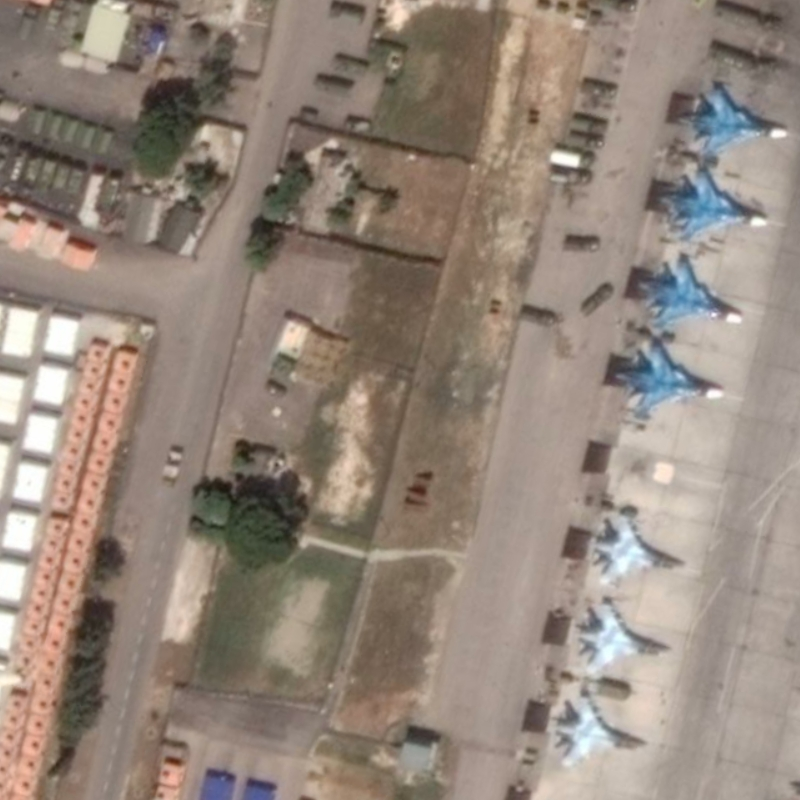A1: (547, 690, 648, 771), (573, 593, 667, 677), (589, 507, 687, 587)
A19: (614, 338, 731, 421), (636, 249, 748, 332), (681, 79, 795, 160), (659, 163, 776, 238)
